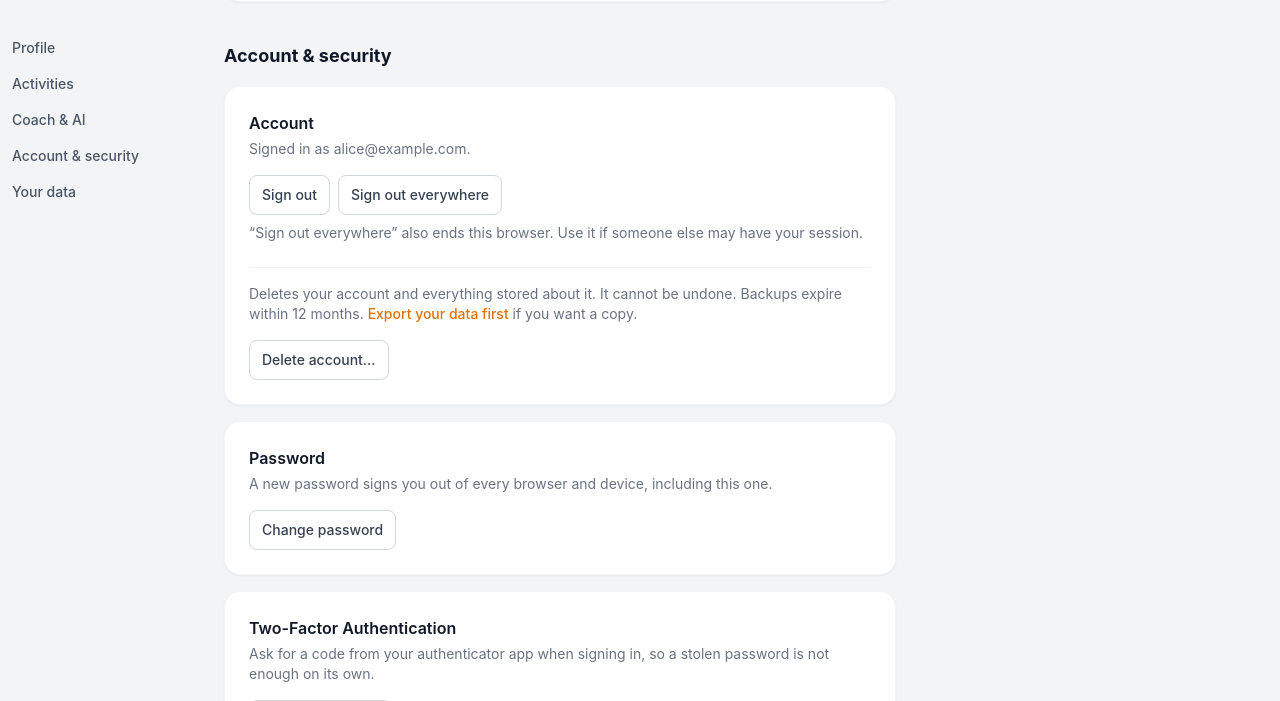
Test: SettingsPage › asks for nothing natively: the password step is the confirmation (ai-trainer-ops#312)
(page scrolled)
Click the button "Delete account…". click: (319, 360)
box: 249,340 -> 389,380
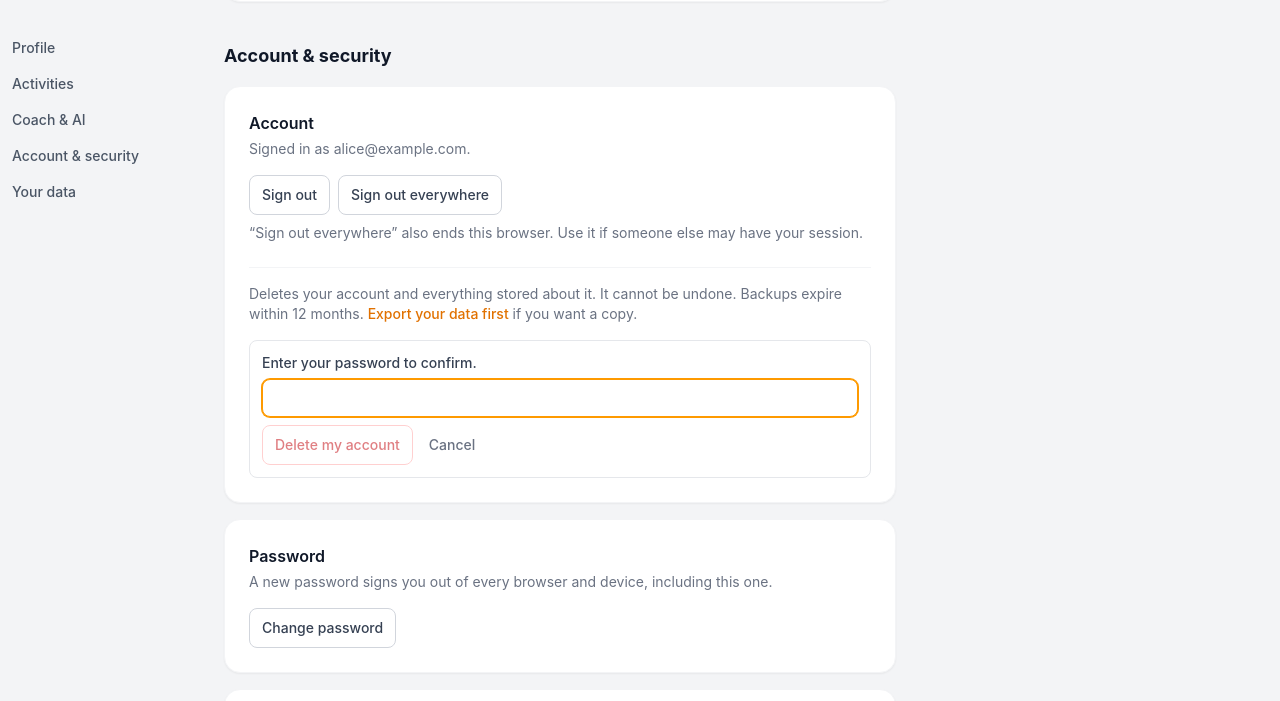
Expected: the password field labelled "Enter your password to confirm." is shown, 262,379 -> 858,417
